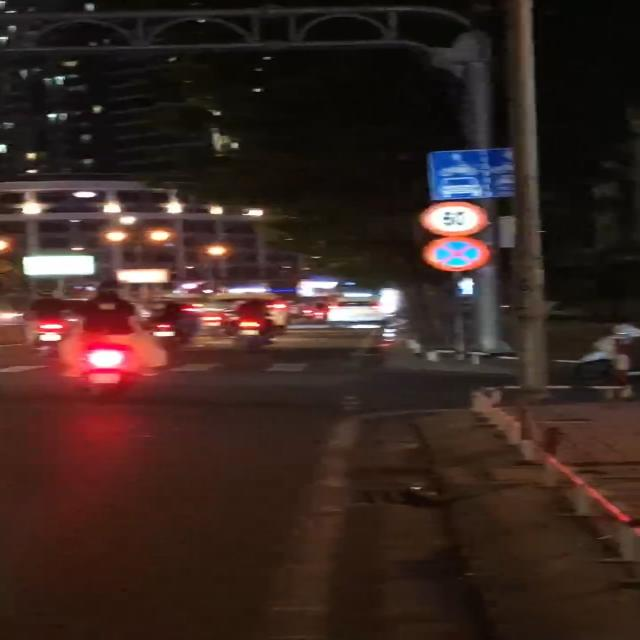Bien bao cam dung xe va do xe: (418, 234, 494, 274)
Bien bao toc do toi da cho phep: (411, 201, 493, 236)
